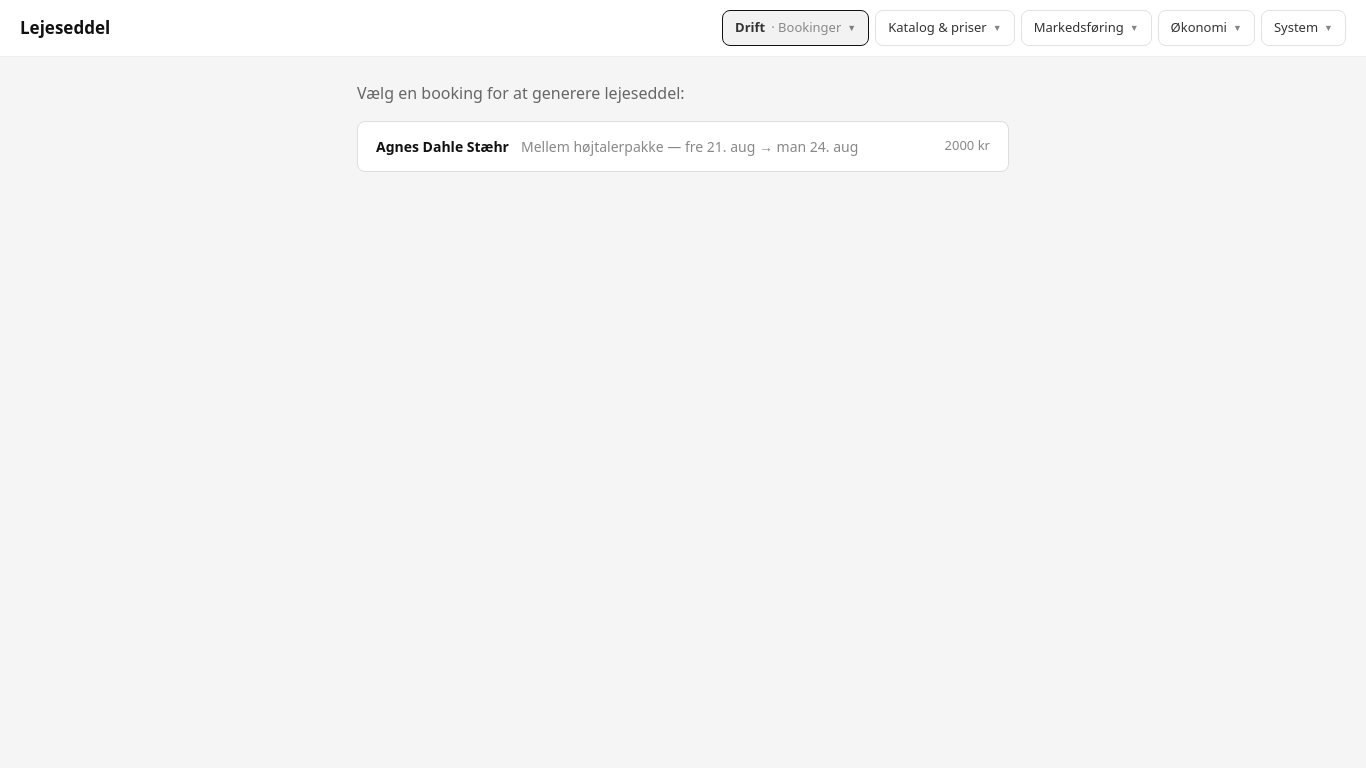
Scenario: Lejesedlen › viser det man skal bruge i døren: kunde, periode og pakkeliste
Click the button "Agnes Dahle Stæhr": (683, 146) left=357, top=120, right=1009, bottom=172
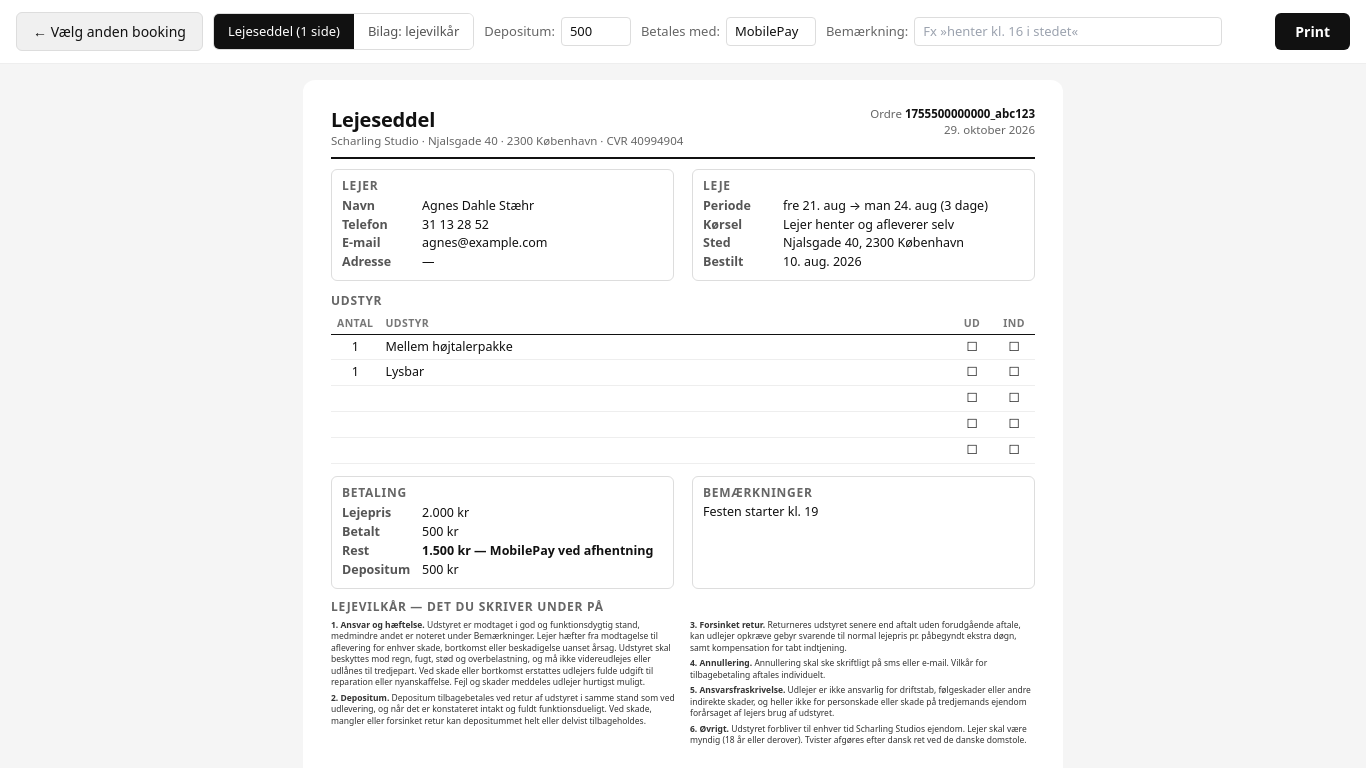
Check: the text "agnes@example.com" is shown, box left=422, top=236, right=547, bottom=252
Check: the text "fre 21. aug → man 24. aug (3 dage)" is shown, box left=783, top=198, right=988, bottom=215
Check: the text "Lysbar" is shown, box left=379, top=360, right=951, bottom=386
